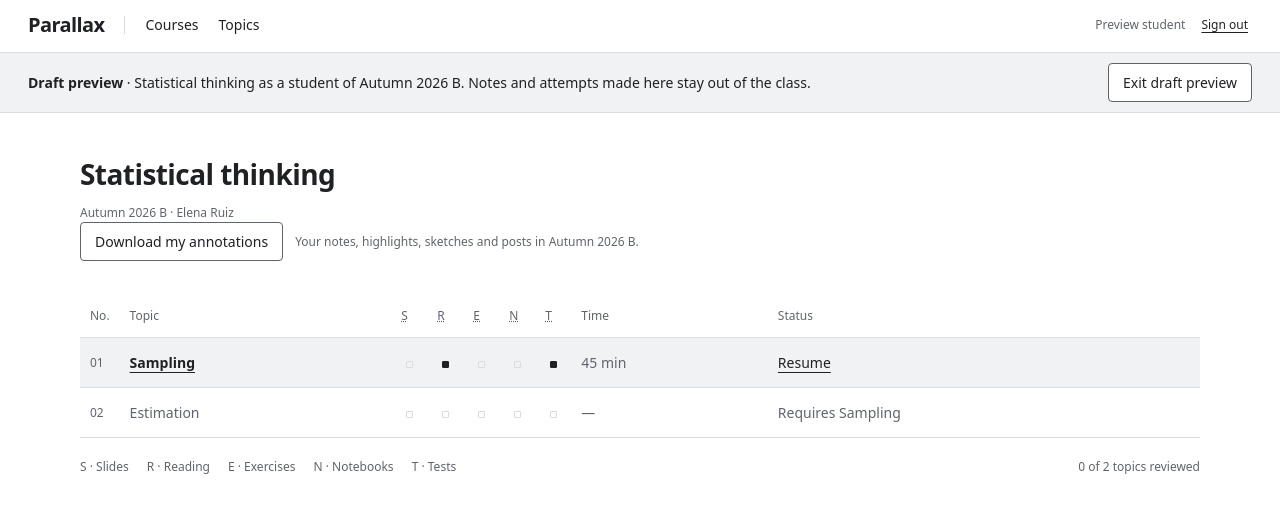
Test: draft preview in the web shell › A26 a failed exit keeps the preview and says so
Step 1. Click the button "Exit draft preview" → x=1180, y=82, box [1108,63,1252,102]
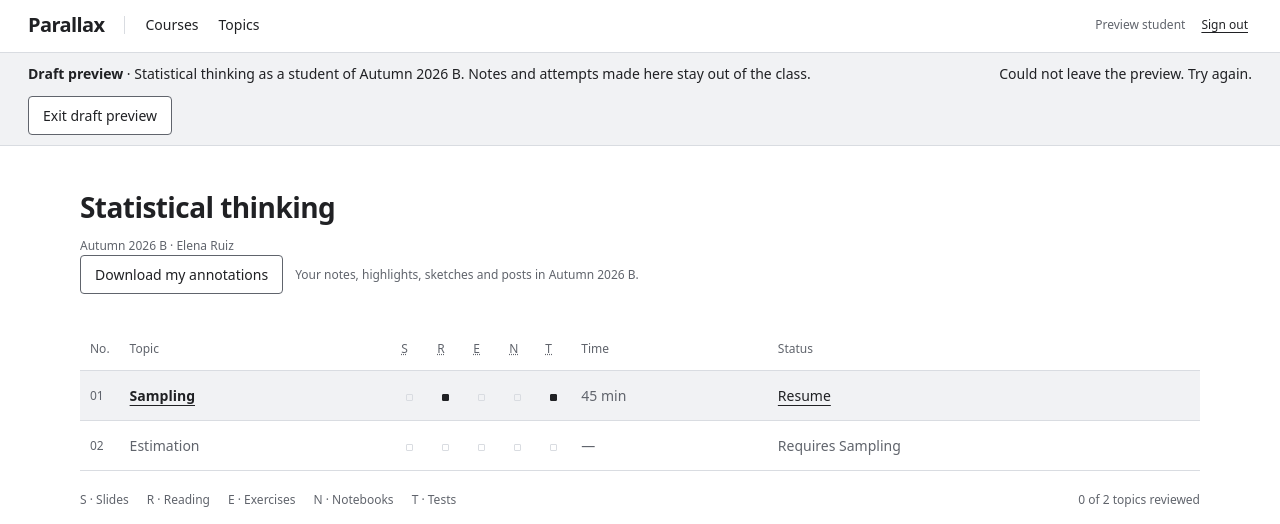
Expected: the button "Exit draft preview" is enabled, [28,96,172,135]
Expected: the message reads "Could not leave the preview. Try again.", [999,64,1252,83]
